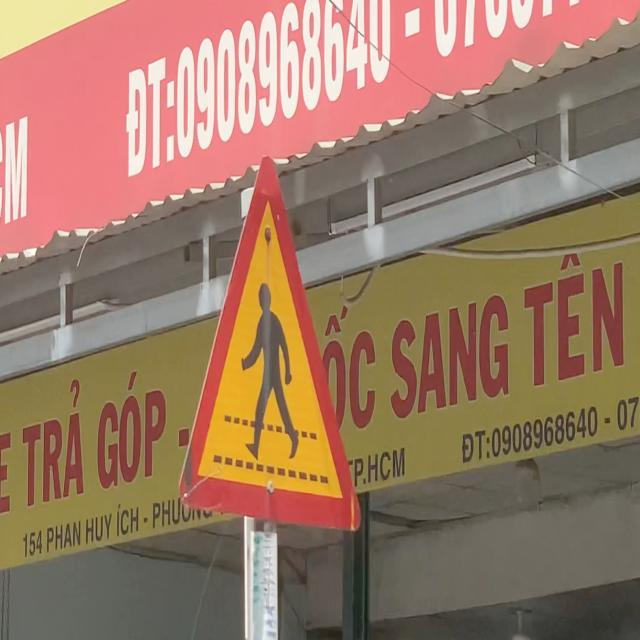Nguoi di bo cat ngang: (178, 153, 363, 537)
